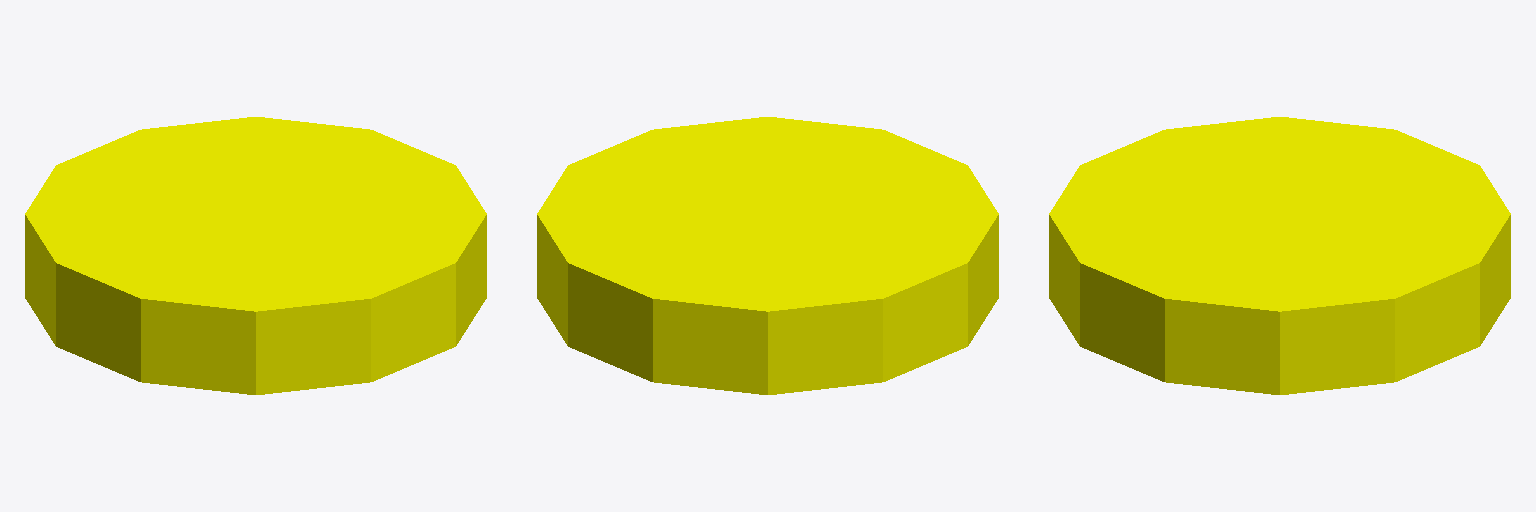
File: Coin.obj
The picture shows the model from 3 angles: view 1: azimuth 30°, elevation 25°; view 2: azimuth 150°, elevation 25°; view 3: azimuth 270°, elevation 25°; orthographic projection.
Parts seen in each view (by area): view 1: Mesh1 Mesh2_cylinder01_1_skp1B9_1_Model Model; view 2: Mesh1 Mesh2_cylinder01_1_skp1B9_1_Model Model; view 3: Mesh1 Mesh2_cylinder01_1_skp1B9_1_Model Model.
Part boxes in pixels (x1,y1,x2,y2): Mesh1 Mesh2_cylinder01_1_skp1B9_1_Model Model: (25,117,486,394); Mesh1 Mesh2_cylinder01_1_skp1B9_1_Model Model: (537,117,998,394); Mesh1 Mesh2_cylinder01_1_skp1B9_1_Model Model: (1049,117,1510,394).
Bounding box in the file's own units: 1.5 × 0.3 × 1.5.